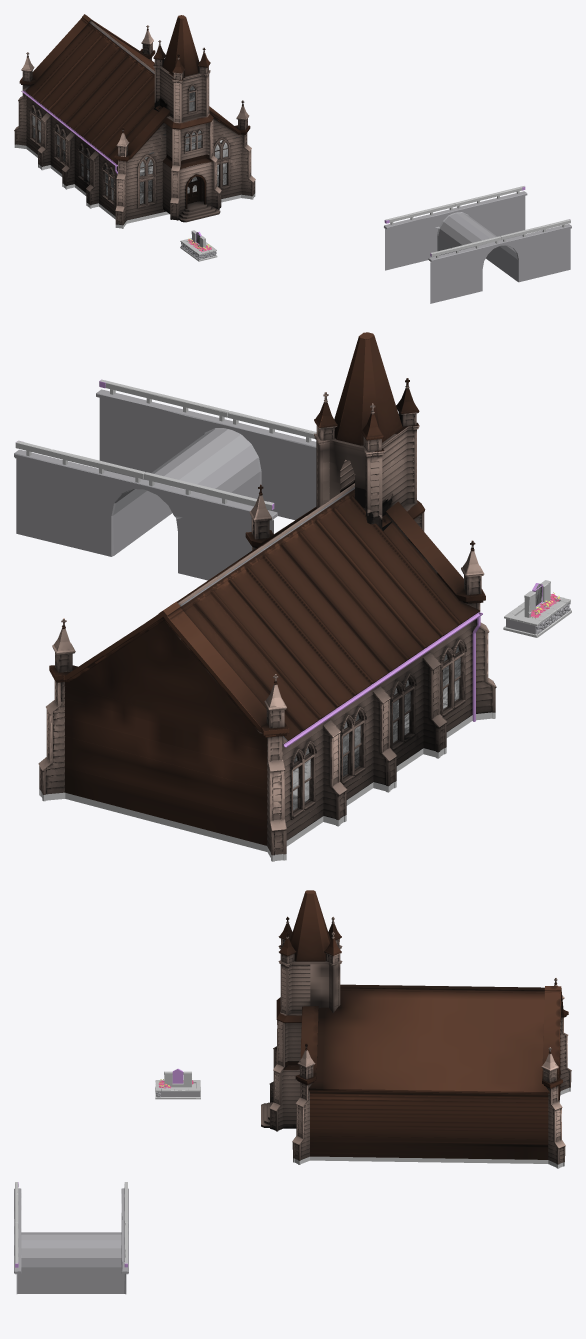
Rendered from Church.fbx.
3 views of the same model, one above another, from view 1: azimuth 30°, elevation 25°; view 2: azimuth 150°, elevation 25°; view 3: azimuth 270°, elevation 25° (orthographic). The views are drawn at different scales.
Parts seen in each view (by area): view 1: SM_Hometown_Church_01.mo, SM_Church_Bridge_01.mo, SM_HometownNM_Church_02.mo, SM_Church_Sign_02.mo; view 2: SM_Hometown_Church_01.mo, SM_Church_Bridge_01.mo, SM_HometownNM_Church_02.mo, SM_Church_Sign_02.mo; view 3: SM_Hometown_Church_01.mo, SM_HometownNM_Church_02.mo, SM_Church_Bridge_01.mo, SM_Church_Sign_02.mo.
Boxes of the visible parts, <box> form: SM_Hometown_Church_01.mo: <box>14,14,255,228</box>; SM_Church_Bridge_01.mo: <box>384,186,571,303</box>; SM_HometownNM_Church_02.mo: <box>153,15,221,222</box>; SM_Church_Sign_02.mo: <box>180,230,217,261</box>; SM_Hometown_Church_01.mo: <box>38,480,496,861</box>; SM_Church_Bridge_01.mo: <box>14,379,316,580</box>; SM_HometownNM_Church_02.mo: <box>314,332,425,531</box>; SM_Church_Sign_02.mo: <box>503,580,571,637</box>; SM_Hometown_Church_01.mo: <box>292,978,571,1168</box>; SM_HometownNM_Church_02.mo: <box>261,890,342,1131</box>; SM_Church_Bridge_01.mo: <box>14,1182,128,1294</box>; SM_Church_Sign_02.mo: <box>155,1068,200,1099</box>.
Size of the model in its own units: 3877 by 2523 by 4627.
